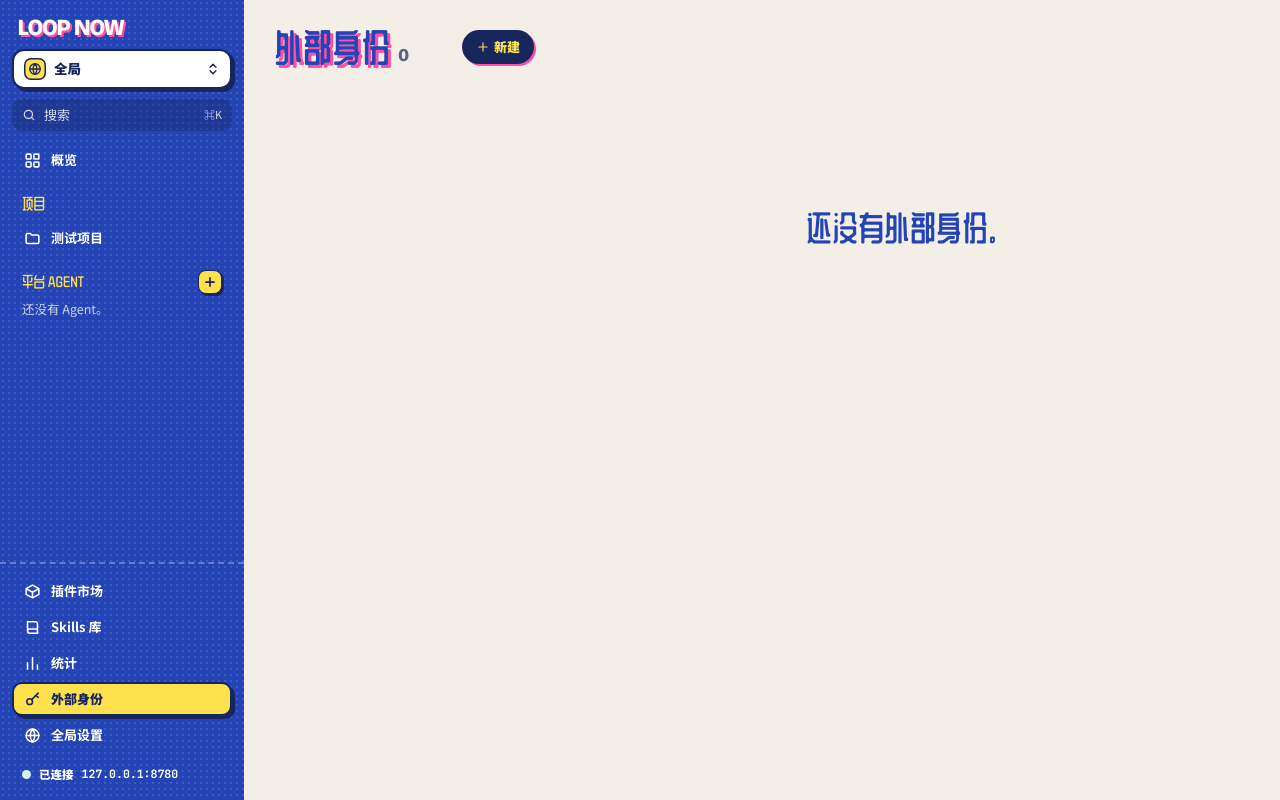
创建外部身份 › 名称不满足规则或是保留名称时不提交，并说明原因
Check: the heading "外部身份0" is shown, box [274, 28, 409, 66]
Click the button "新建". click: (498, 47)
box: [462, 30, 534, 64]
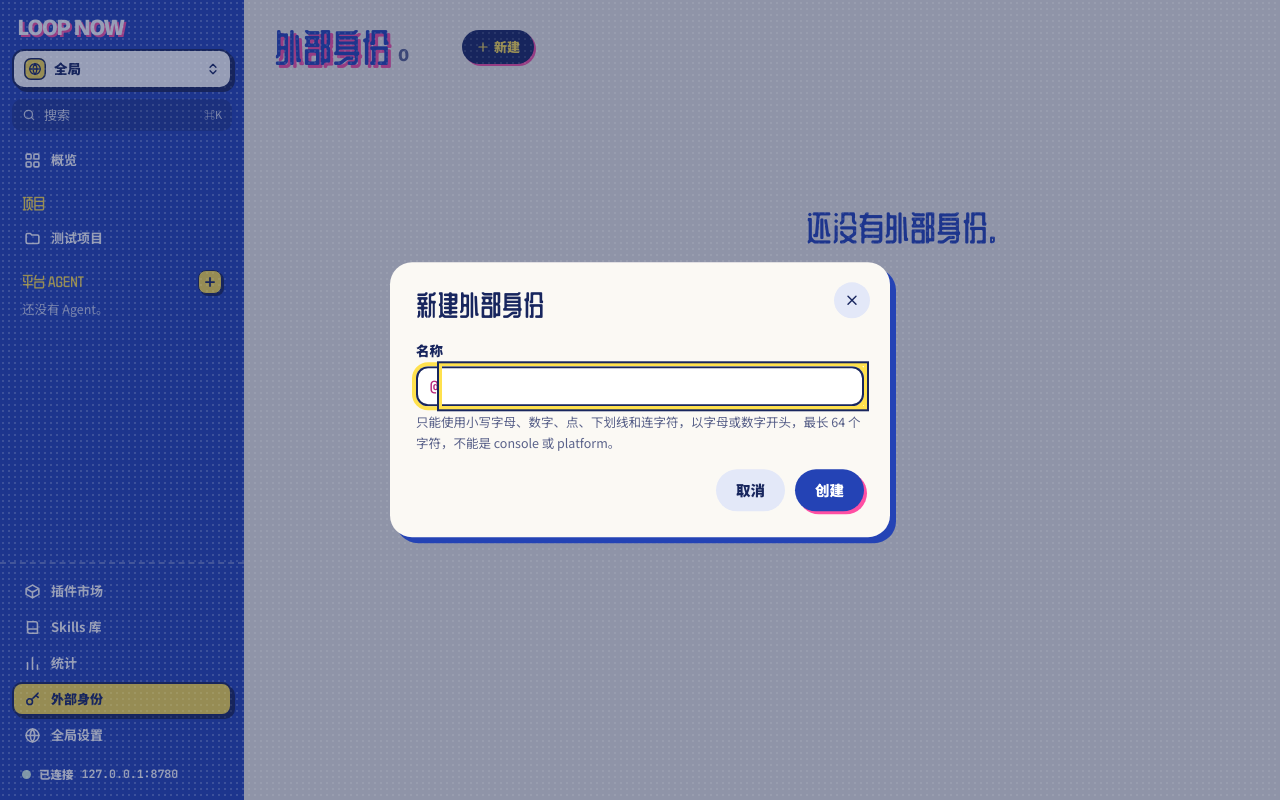
Type "platform" into the field labelled "名称". click: (653, 386)
box: [442, 366, 864, 406]
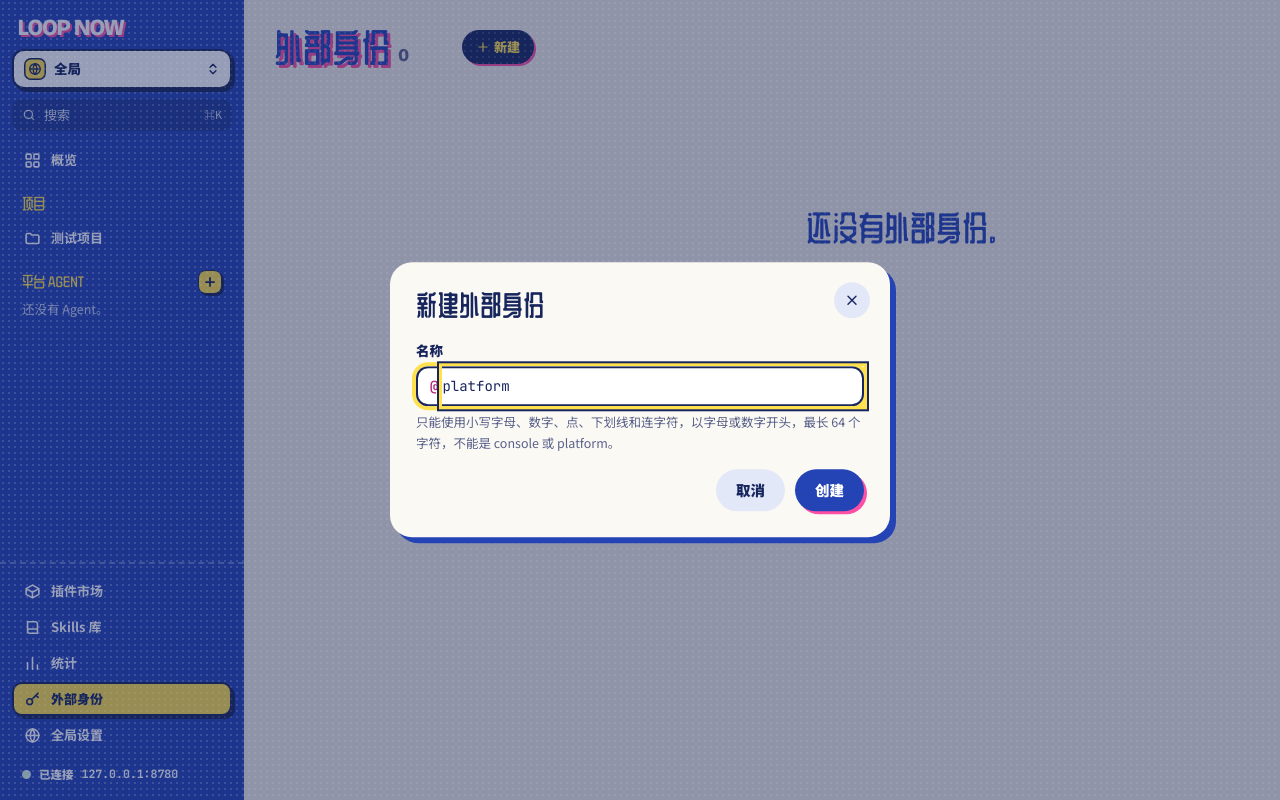
Click the button "创建". click: (830, 491)
box: [795, 470, 864, 512]
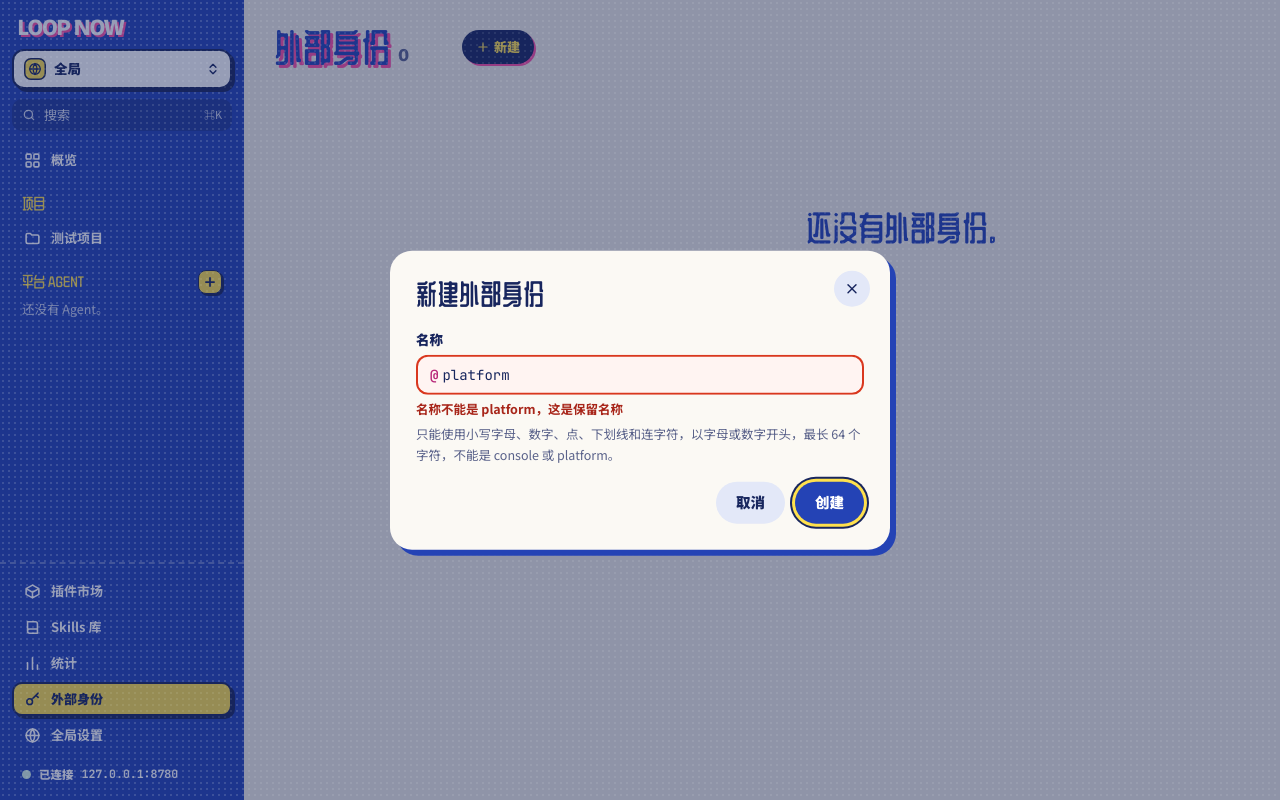
Check: the message reads "名称不能是 platform，这是保留名称", box [416, 401, 623, 417]
Replace the text in the field labelled "名称" with "CI Bot". click: (653, 375)
box: [442, 355, 864, 395]
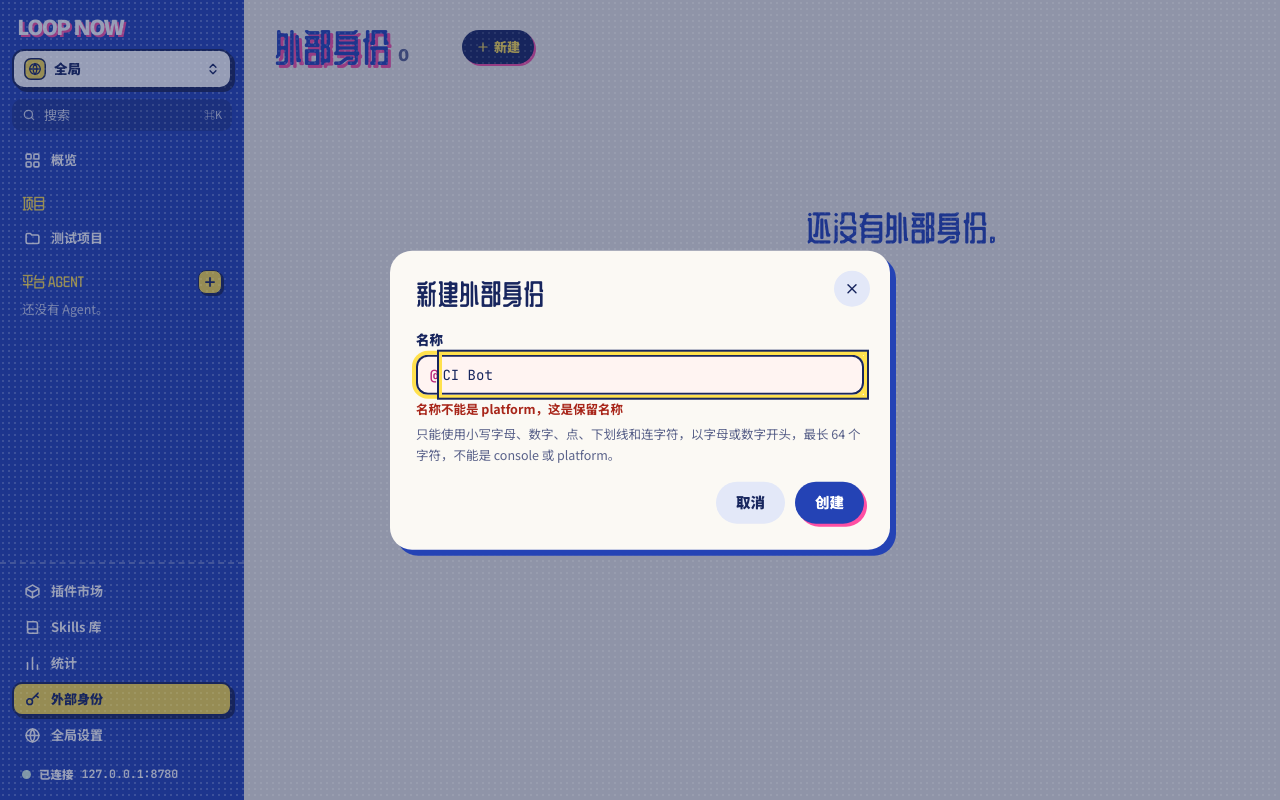
Click the button "创建". click: (830, 502)
box: [795, 481, 864, 523]
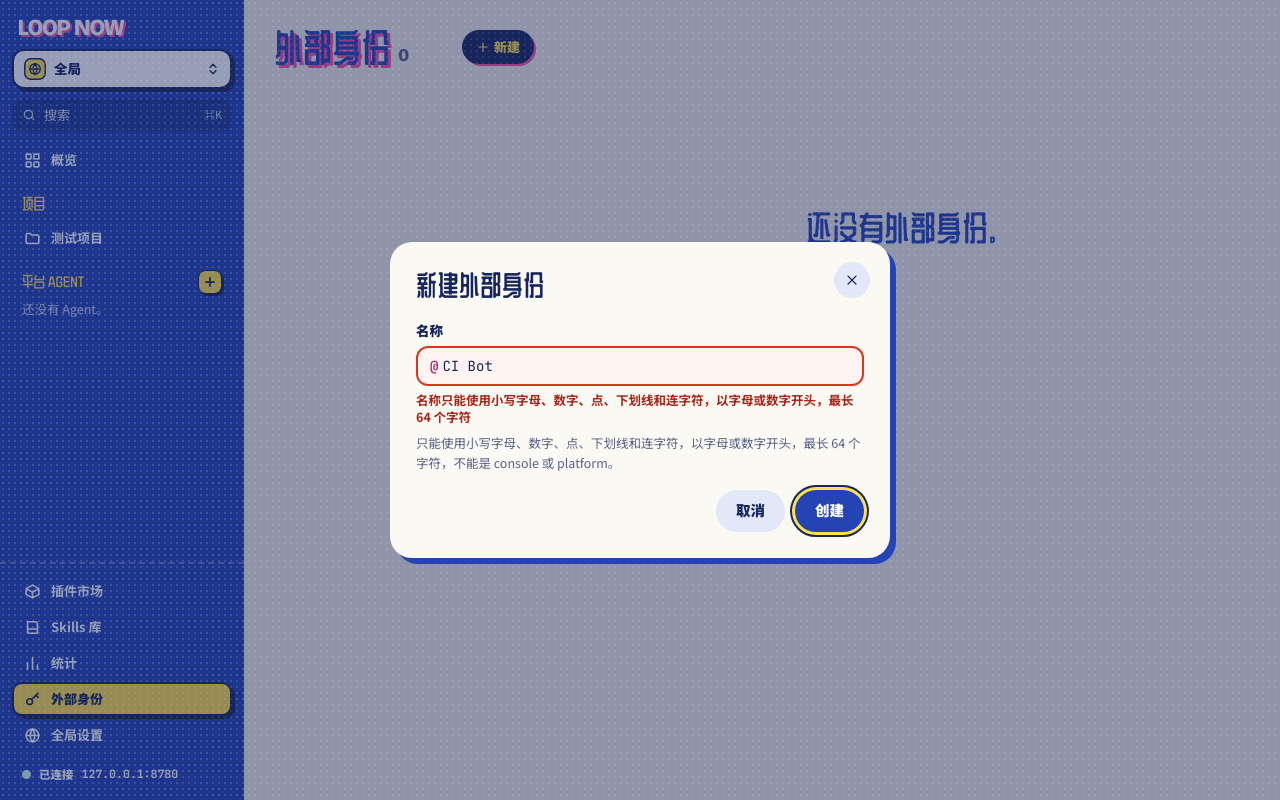
Check: the message shows "名称只能使用小写字母", box [416, 392, 854, 426]
